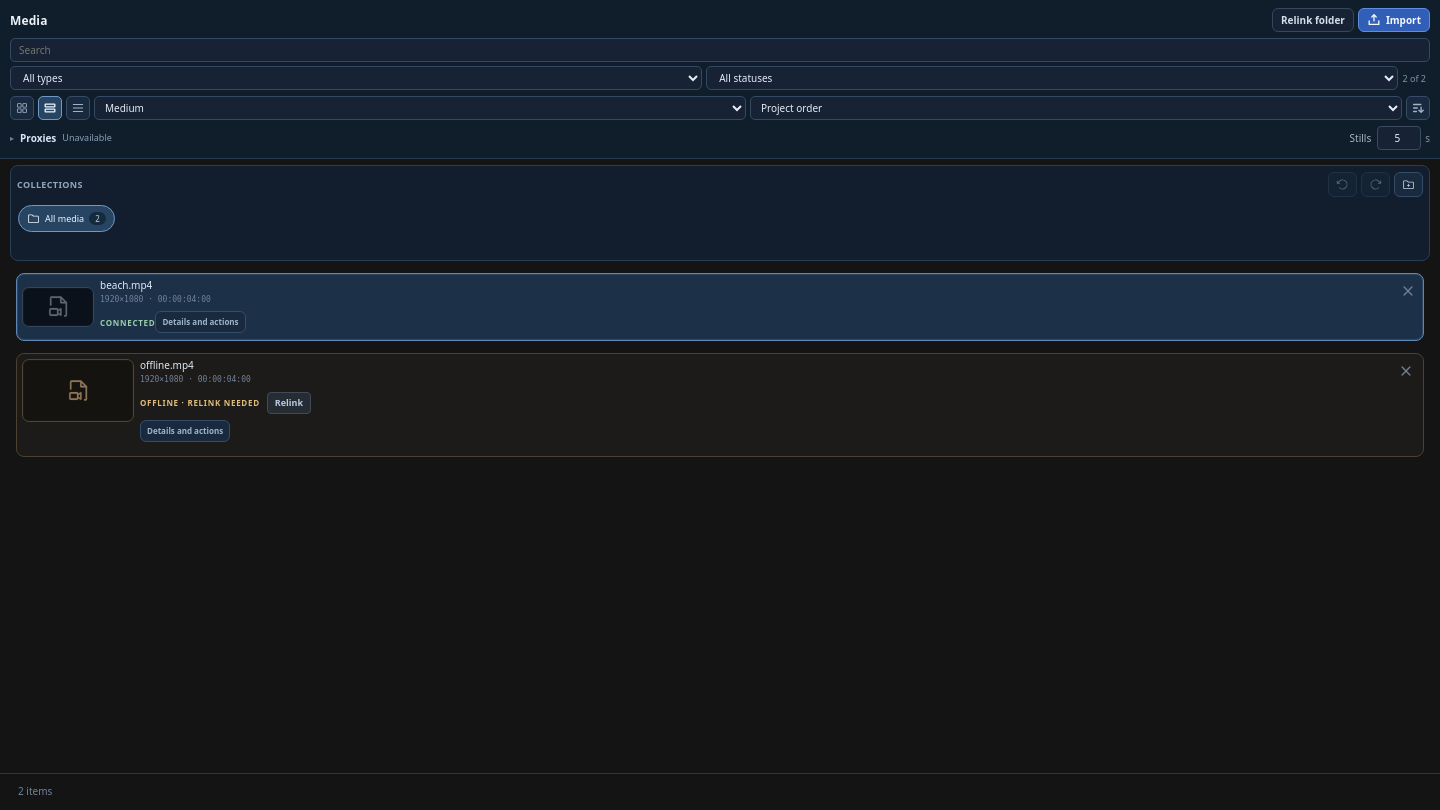
Scenario: MediaPool presentation › right-click and Shift+F10 make the exact asset active before opening its menu
This screenshot has width=1440, height=810.
Right-click the row "offline.mp4" at {"x": 720, "y": 404}, box top-left (16, 353), bottom-right (1424, 456)
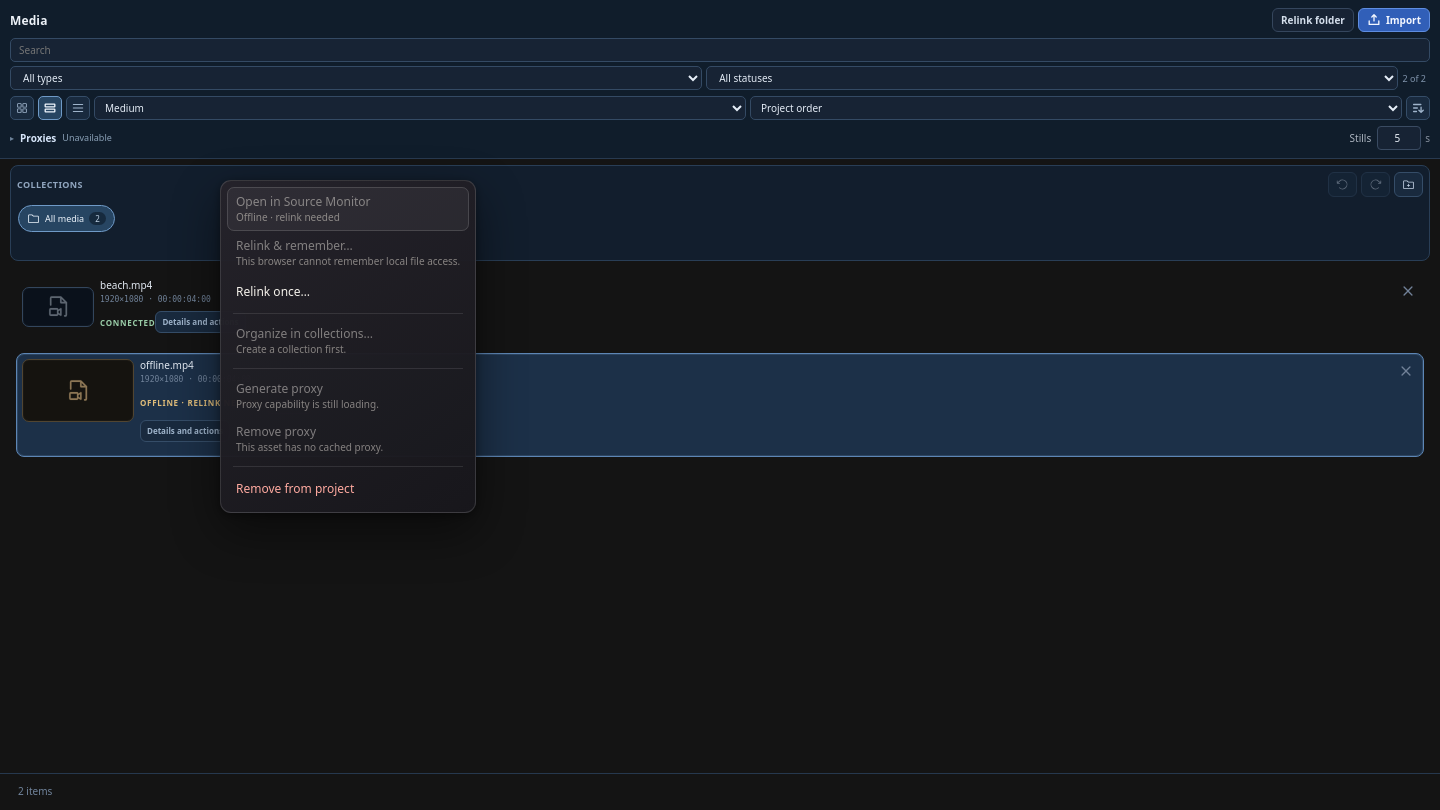
Expected: the menu named "offline.mp4" is shown
Press Escape in the menu, box top-left (220, 180), bottom-right (476, 512)
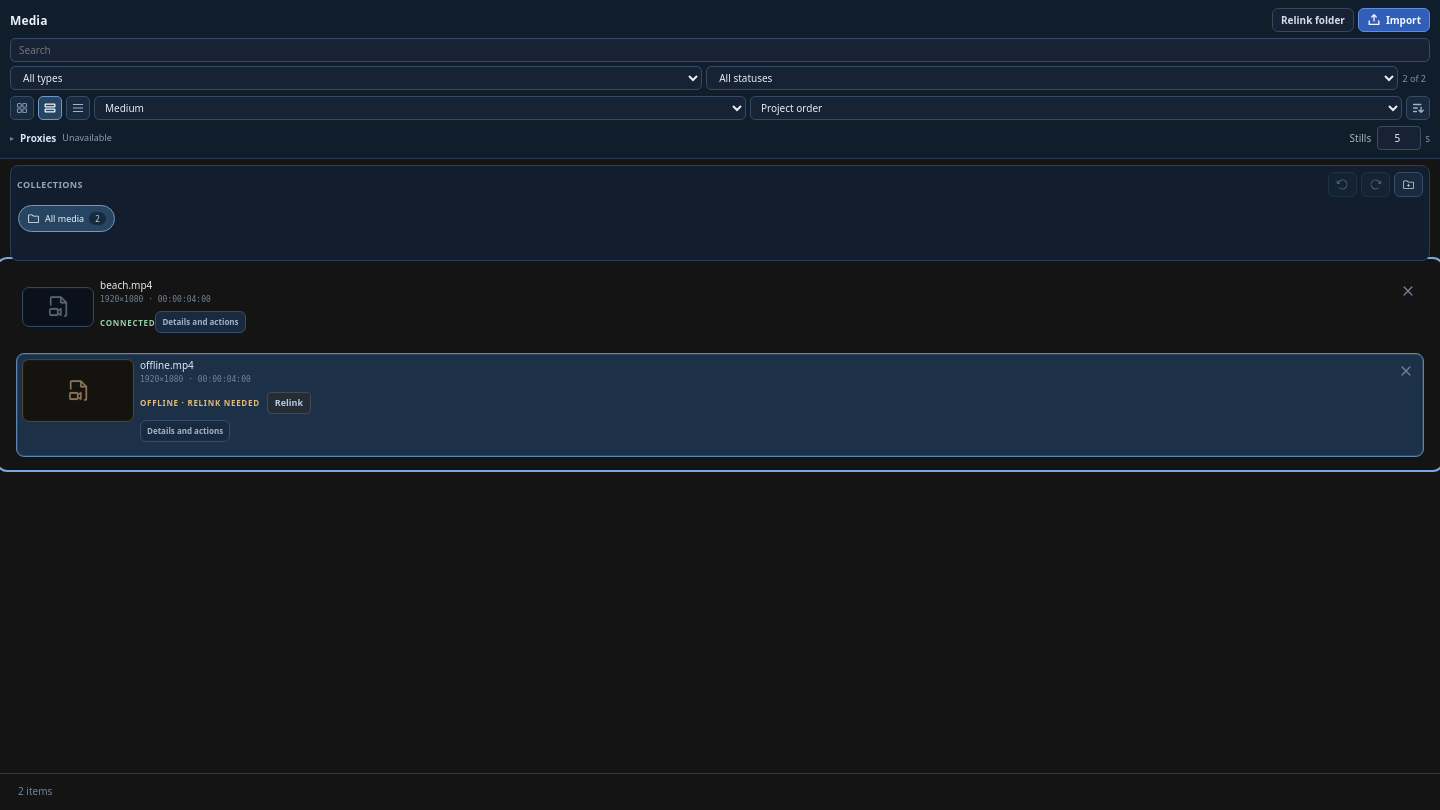
Press Home in the table named "Media assets", box top-left (0, 261), bottom-right (1439, 468)
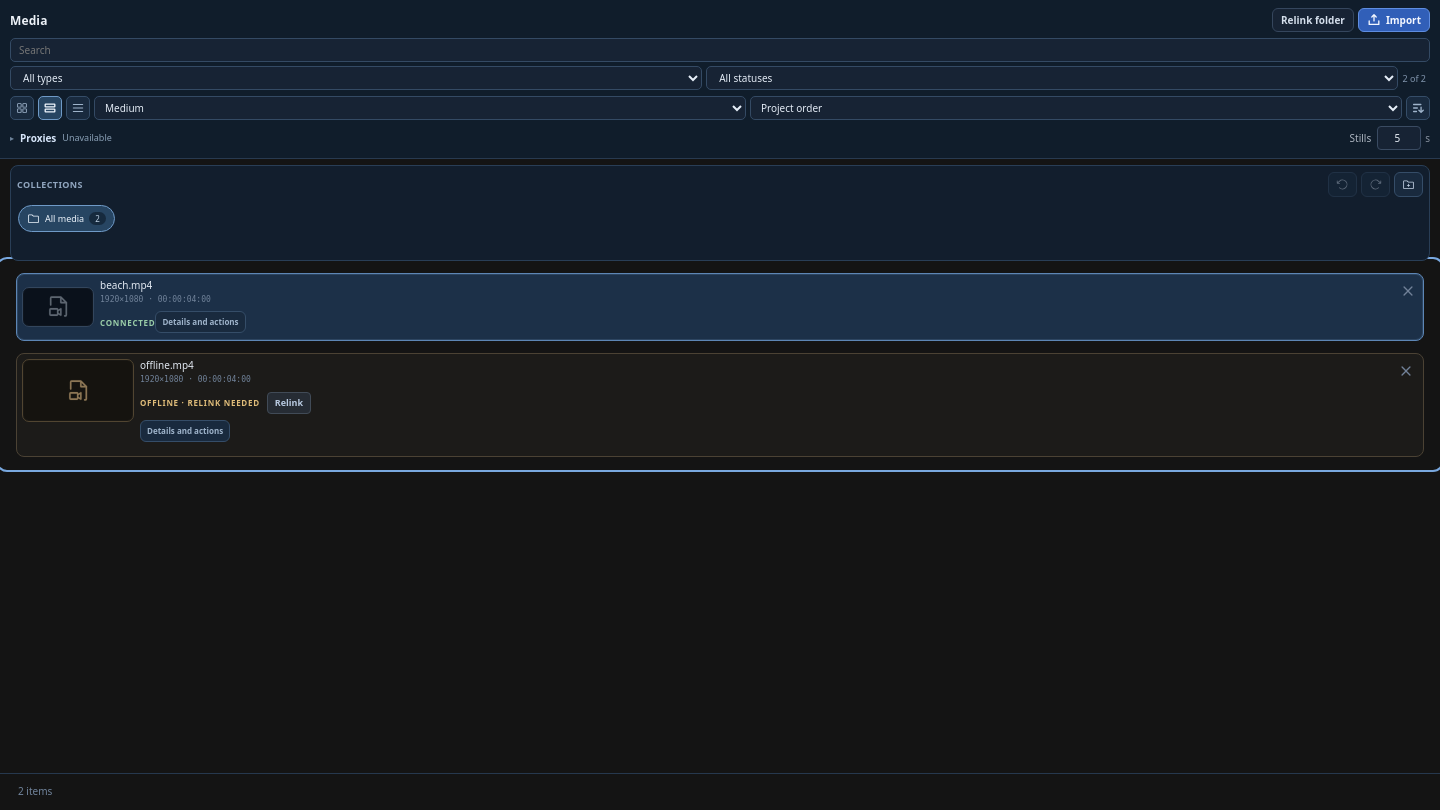
Press F10 in the table named "Media assets", box top-left (0, 261), bottom-right (1439, 468)
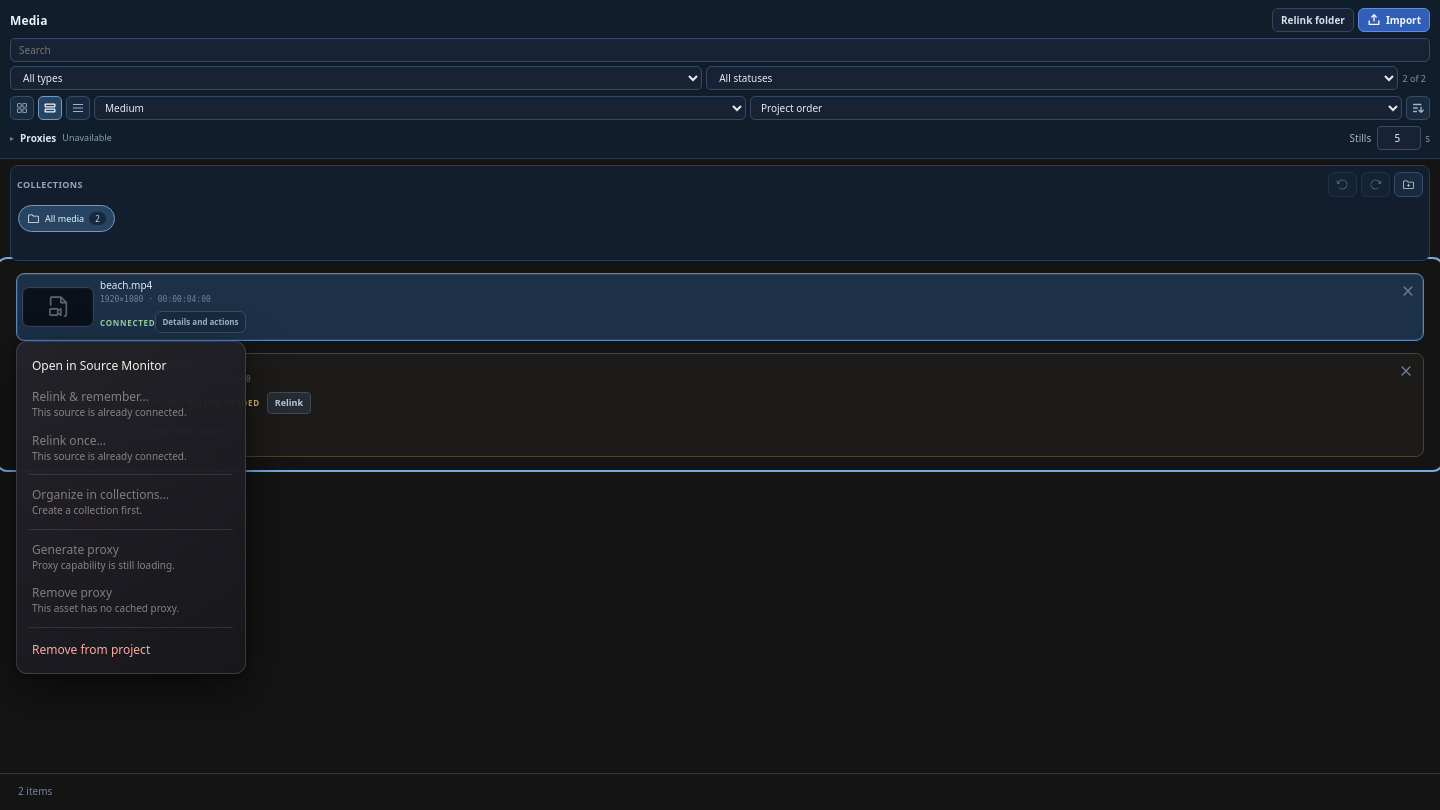
Expected: the menu named "beach.mp4" is shown, top-left (16, 341), bottom-right (246, 674)
